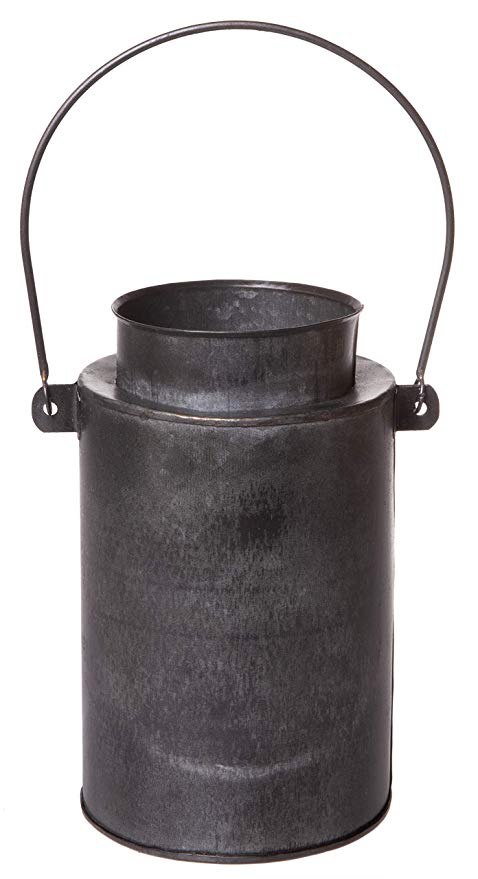metal: (17, 17, 456, 868)
